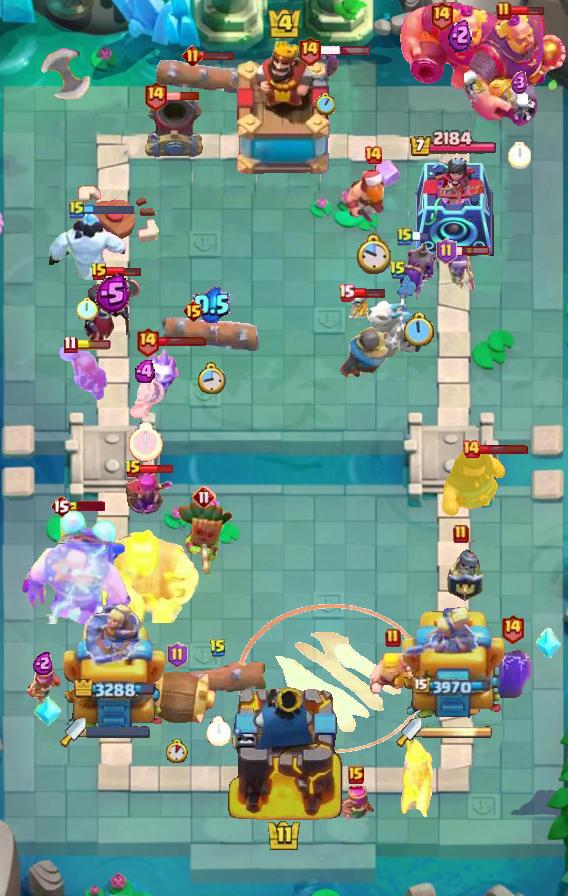archer: (23, 664, 63, 708), (336, 786, 376, 824)
archer-evolution: (120, 469, 172, 527)
axe: (24, 47, 92, 101)
bar: (83, 204, 135, 215), (319, 45, 371, 56), (479, 444, 529, 455), (157, 336, 207, 347), (454, 245, 491, 257), (140, 463, 175, 475), (510, 5, 545, 17), (352, 287, 385, 299), (106, 266, 142, 277), (200, 50, 235, 61), (69, 501, 105, 511), (75, 340, 111, 350), (165, 91, 200, 101), (411, 230, 430, 242)
bar-level: (500, 613, 525, 644), (135, 326, 160, 357), (143, 80, 168, 111), (297, 35, 322, 66), (429, 0, 454, 31), (192, 485, 216, 509), (182, 299, 205, 323), (167, 642, 188, 668), (436, 238, 457, 264), (50, 494, 72, 518), (182, 45, 203, 66), (461, 439, 481, 459), (363, 145, 383, 165), (209, 638, 227, 658), (124, 459, 142, 479), (90, 262, 108, 282), (389, 260, 407, 280), (338, 283, 355, 302), (385, 628, 401, 648), (453, 524, 469, 544), (397, 226, 413, 246), (69, 199, 85, 219), (496, 1, 512, 21), (348, 766, 364, 784), (63, 335, 78, 354)
barbarian: (370, 653, 416, 695)
barbarian-barrel: (135, 664, 219, 726)
bat: (309, 48, 341, 78)
bomber-evolution: (395, 241, 441, 305)
clock: (355, 233, 391, 276), (129, 422, 163, 462), (402, 312, 434, 349), (197, 362, 226, 394), (206, 716, 231, 746), (508, 142, 531, 169), (166, 739, 188, 763), (77, 297, 98, 320), (315, 93, 335, 115)
dagger-duchess-tower: (59, 595, 169, 731), (399, 607, 507, 731)
dagger-duchess-tower-bar: (422, 725, 492, 739), (86, 726, 150, 738)
dart-goblin: (174, 498, 234, 576)
electro-spirit: (492, 648, 532, 698)
elixir: (95, 273, 130, 314), (193, 286, 230, 323), (448, 18, 472, 52), (134, 360, 158, 383), (33, 651, 54, 675), (511, 71, 528, 95)
guard: (438, 536, 484, 602)
ice-spirit: (125, 368, 167, 420)
ice-spirit-evolution: (139, 346, 183, 400)
ice-spirit-evolution-symbol: (34, 694, 62, 728), (536, 628, 562, 660)
king-tower: (223, 680, 345, 826), (228, 41, 340, 181)
knight: (337, 324, 401, 380)
lumberjack: (343, 154, 403, 228)
mortar: (143, 93, 205, 161)
musketeer: (397, 732, 435, 830)
night-witch: (82, 274, 142, 348)
queen-tower: (412, 158, 494, 256)
skeleton: (344, 291, 372, 321)
skeleton-evolution: (445, 250, 477, 292)
the-log: (165, 657, 271, 703), (160, 315, 262, 351), (156, 60, 254, 96)
tower-bar: (409, 130, 498, 158), (74, 679, 155, 701), (413, 676, 493, 696)
valkyrie: (57, 342, 111, 402)
